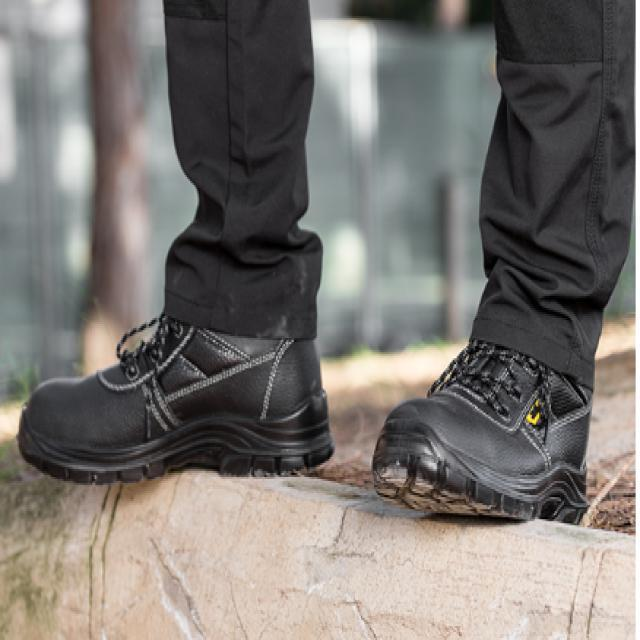boots: (16, 238, 607, 527)
